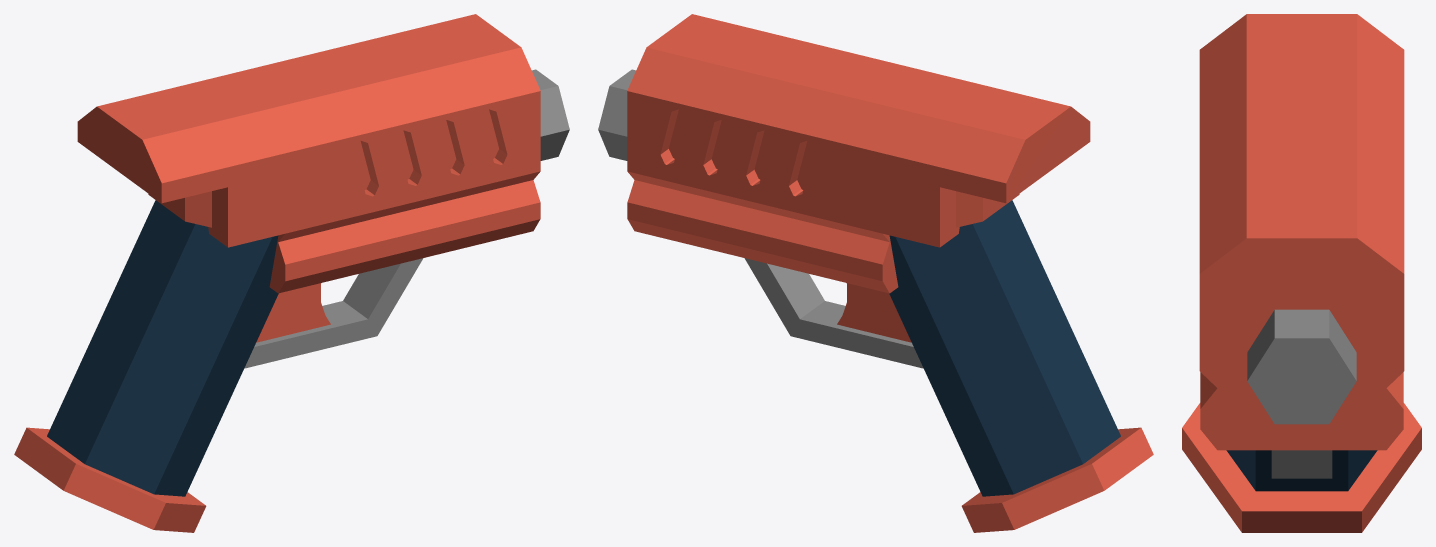
The model's file is gun_low_poly_red.glb.
3 renders of one model, left to right at view 1: azimuth 30°, elevation 25°; view 2: azimuth 150°, elevation 25°; view 3: azimuth 270°, elevation 25°, orthographic. The views are drawn at different scales.
Visible parts, largest first — view 1: Plane; view 2: Plane; view 3: Plane.
Part boxes in pixels (box(x1,y1,x2,y2)): Plane: box(14, 14, 569, 532); Plane: box(598, 14, 1153, 532); Plane: box(1182, 14, 1421, 532).
Size of the model in its own units: 0.8012 by 0.608 by 0.27.
